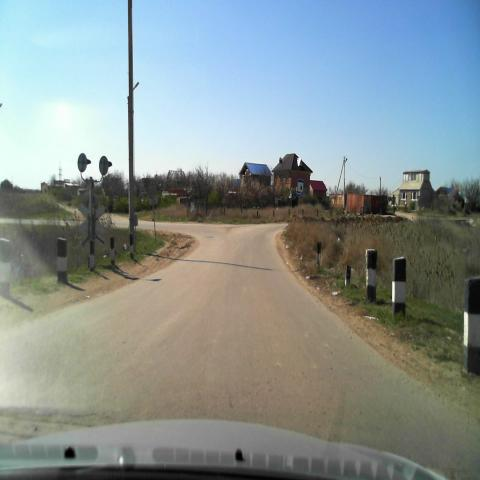7_3: (296, 179, 304, 197)
